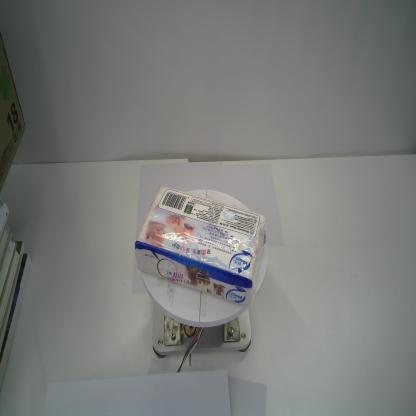Tissue: (134, 183, 267, 309)
